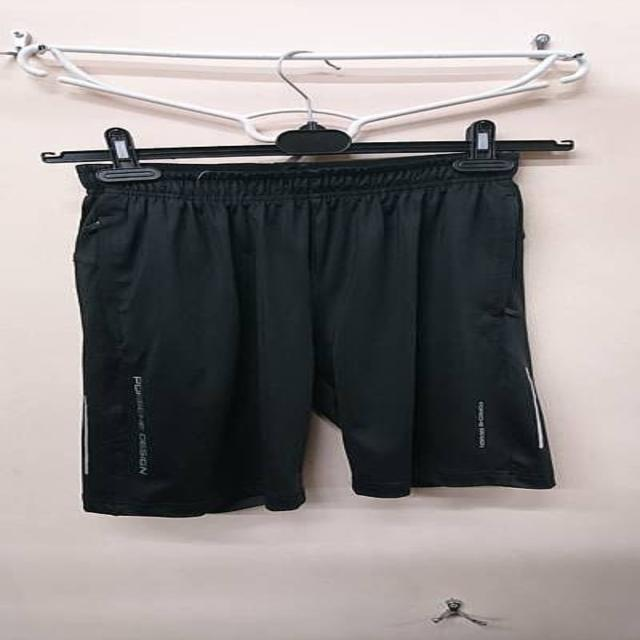SHORT: (57, 152, 577, 522)
